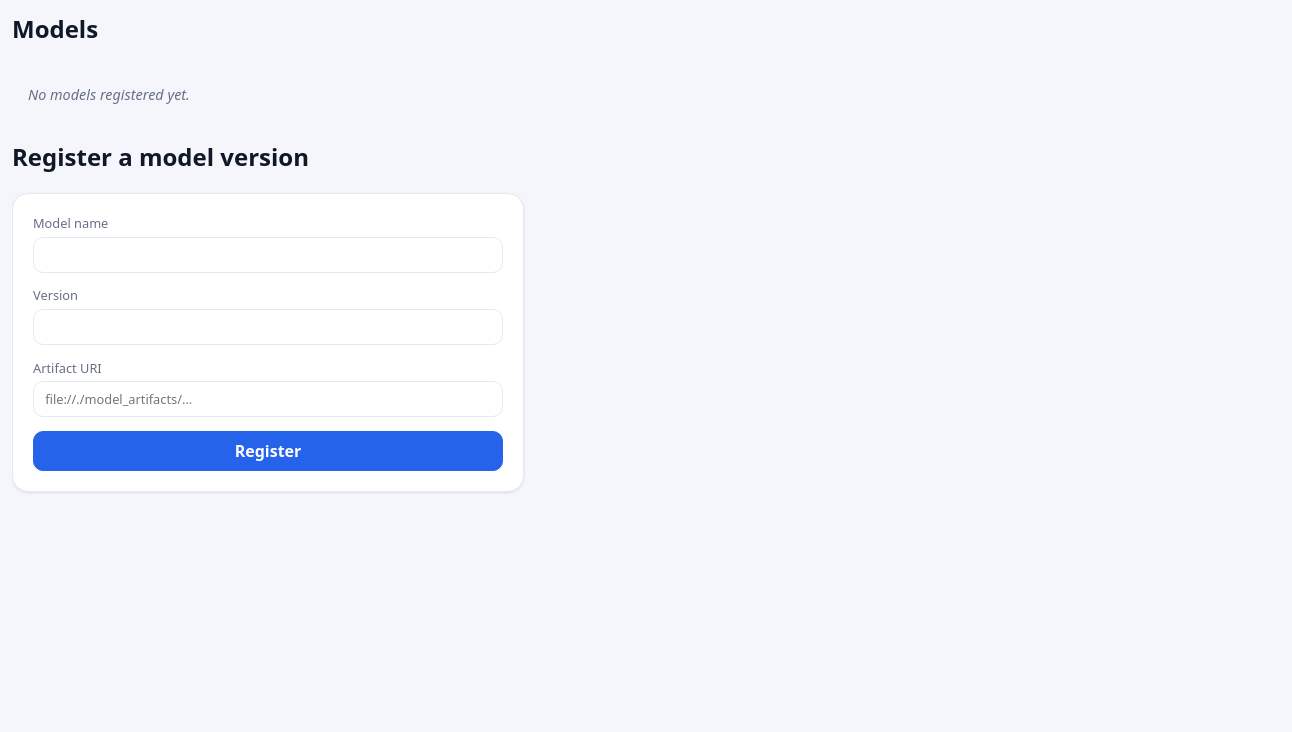
it: ModelsPage › shows a clear message when registering fails
Expected: the text "No models registered yet." is shown, [28,85,190,104]
Type "credit-risk" into the field labelled "Model name" at (268, 255), box [33,237,503,273]
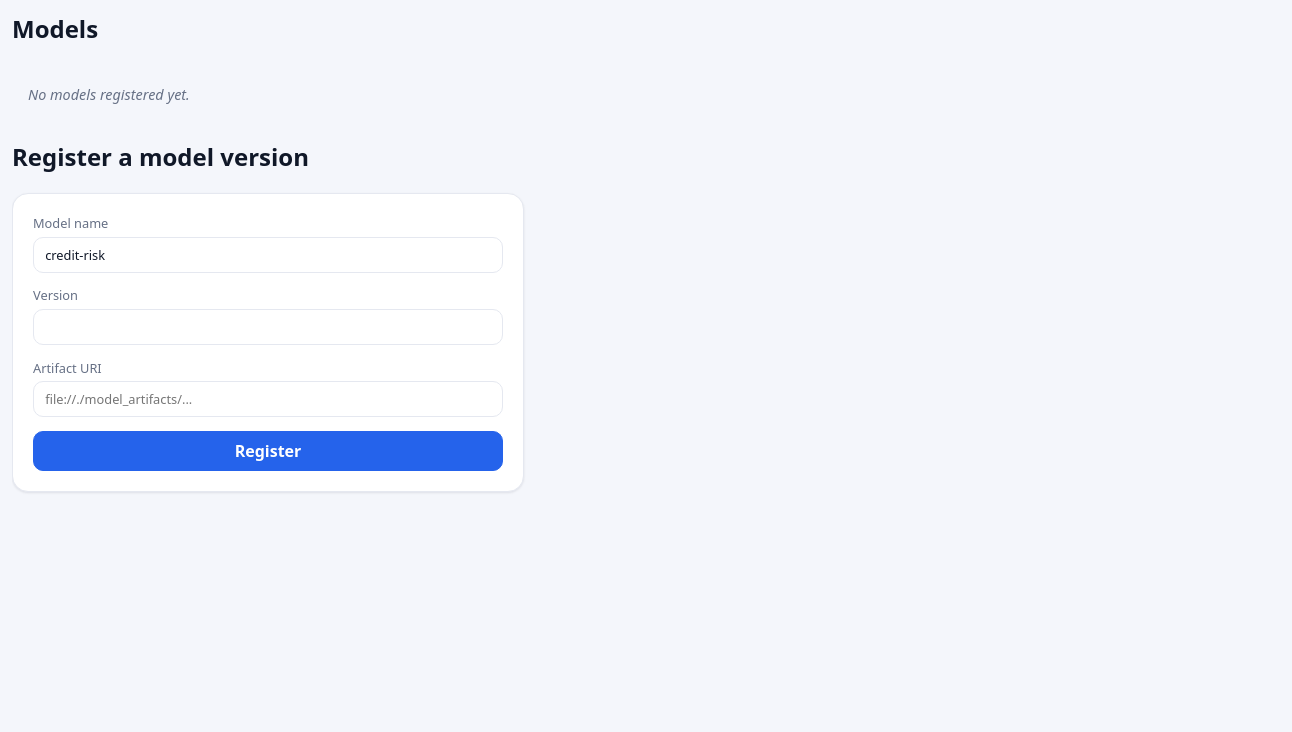
Type "1.0.0" into the field labelled "Version" at (268, 327), box [33,309,503,345]
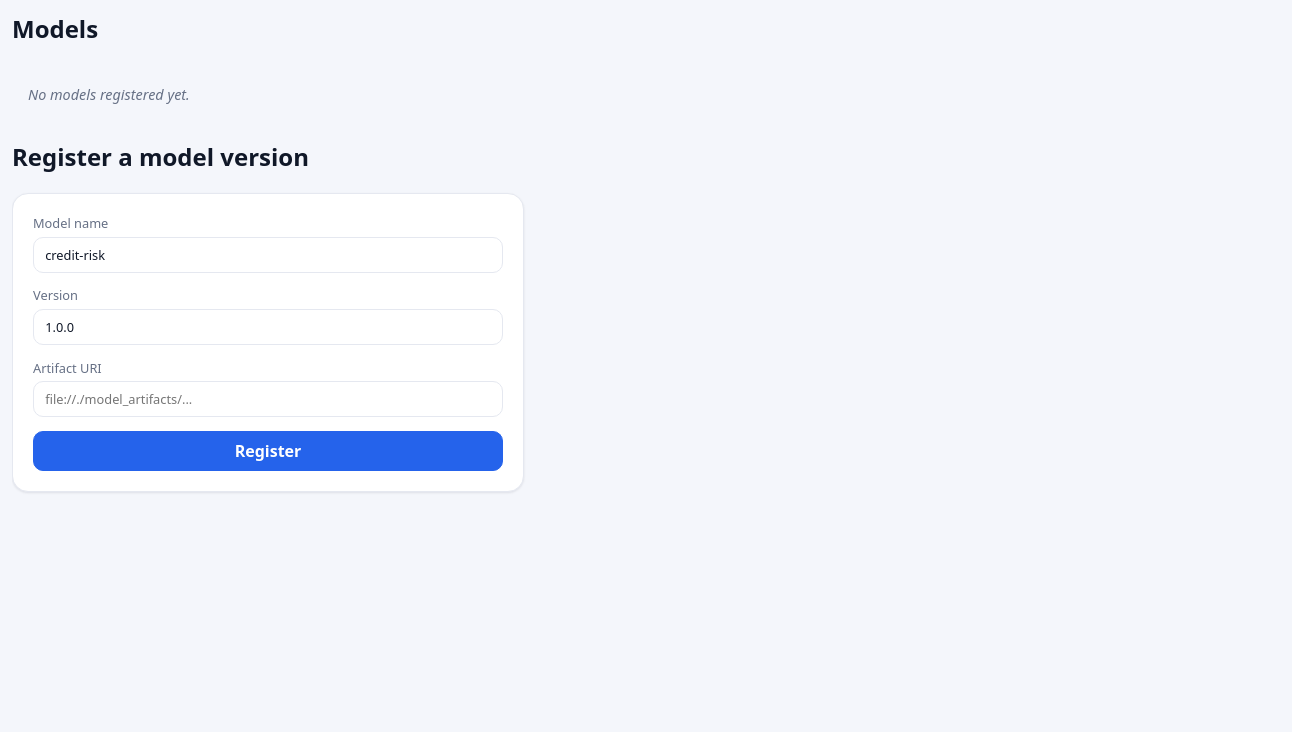
Type "file://x.pkl" into the field labelled "Artifact URI" at (268, 399), box [33,381,503,417]
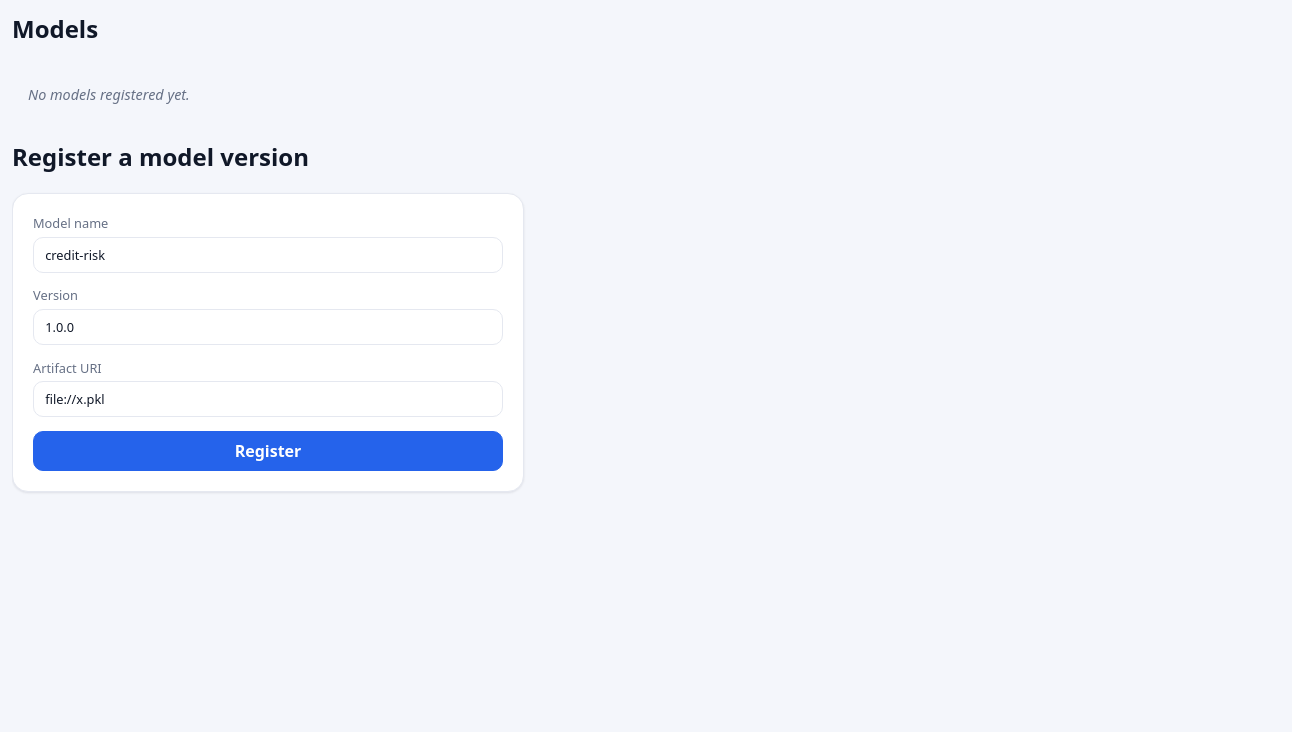
Click the button "Register" at (268, 451), box [33,431,503,471]
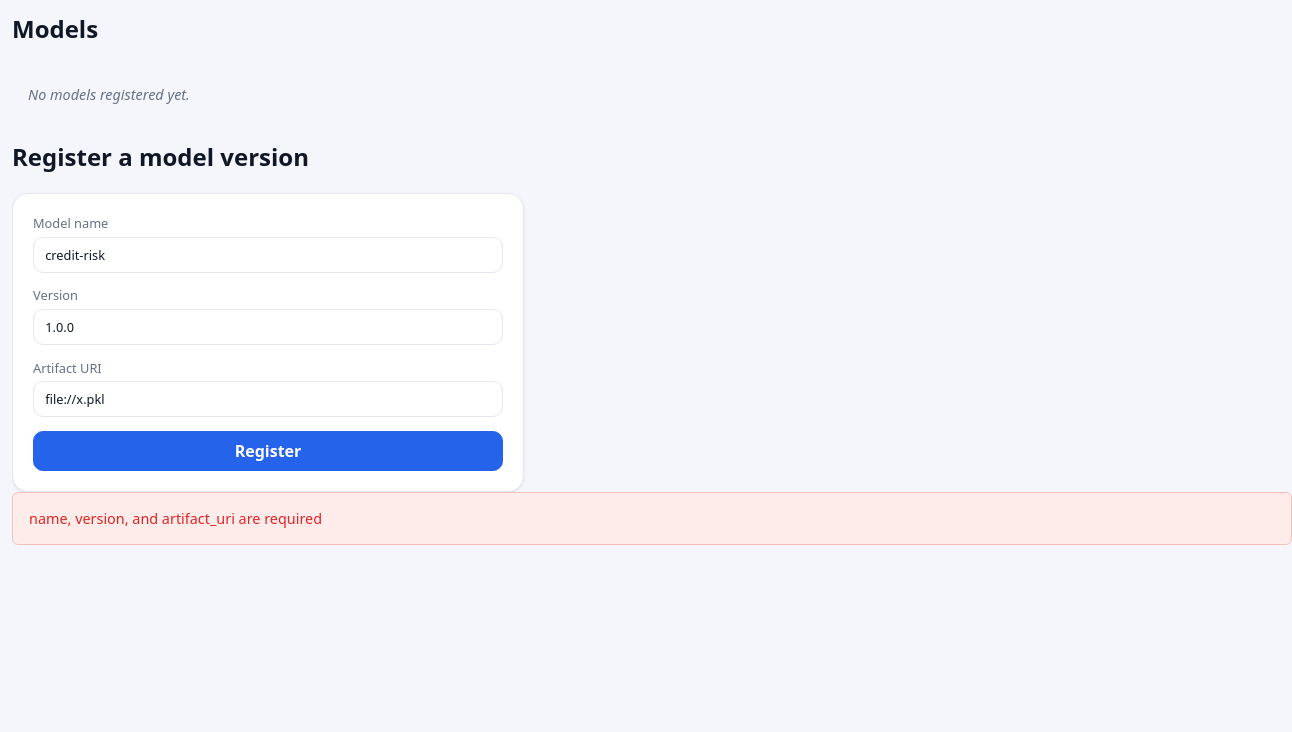
Expected: the message shows "required", [29,509,322,528]
